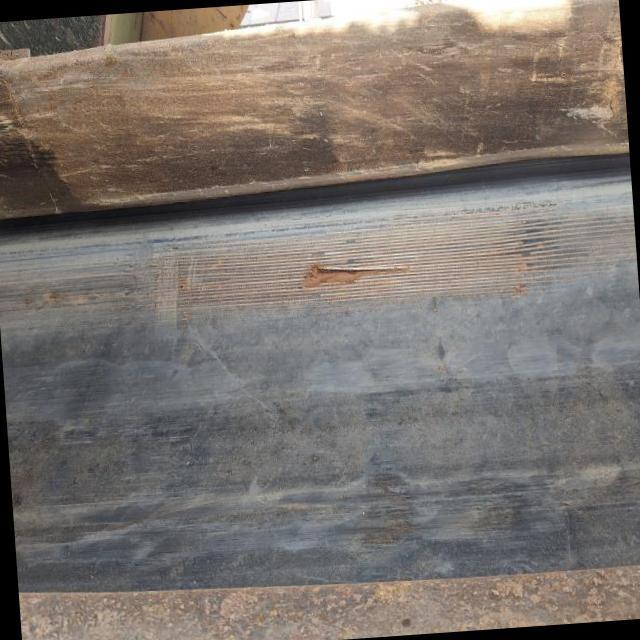Wear: (0, 186, 640, 328)
